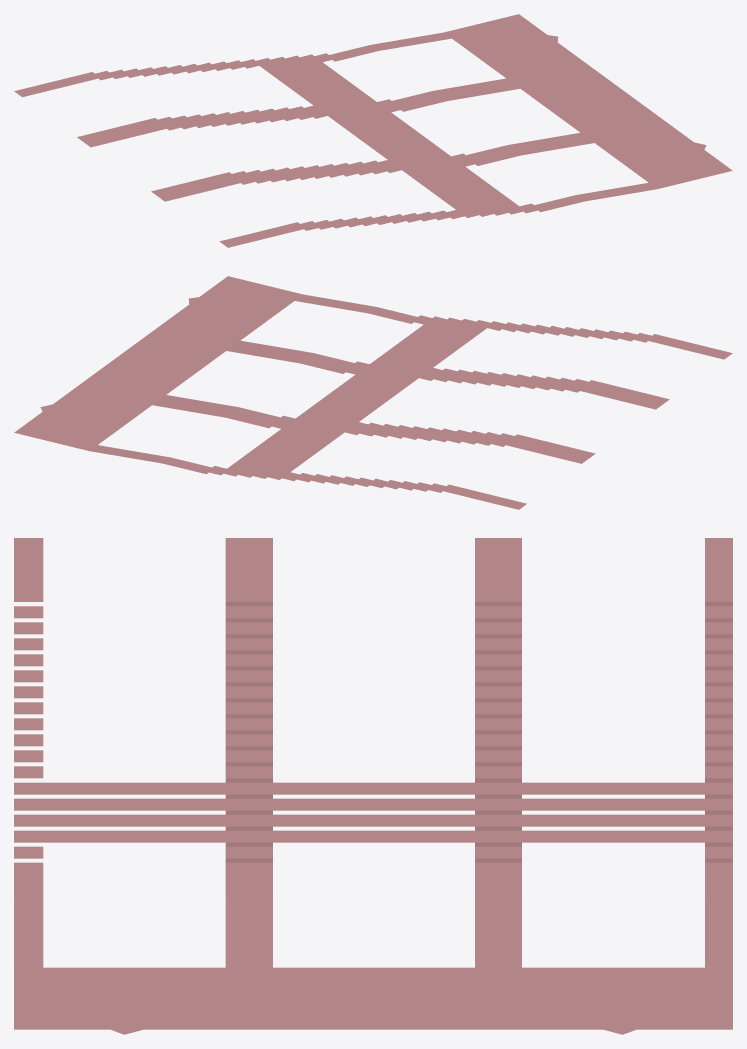
The model's file is ConferenceRoom13.gltf.
3 views of the same model, one above another, from view 1: azimuth 30°, elevation 25°; view 2: azimuth 150°, elevation 25°; view 3: azimuth 270°, elevation 25° (orthographic). The views are drawn at different scales.
Visible parts, largest first — view 1: 室内-一楼地毯; view 2: 室内-一楼地毯; view 3: 室内-一楼地毯.
Boxes of the visible parts, x1=… form: 室内-一楼地毯: x1=14, y1=14, x2=732, y2=247; 室内-一楼地毯: x1=14, y1=276, x2=732, y2=509; 室内-一楼地毯: x1=14, y1=538, x2=732, y2=1034.
Size of the model in its own units: 31.46 by 2.72 by 22.8.
